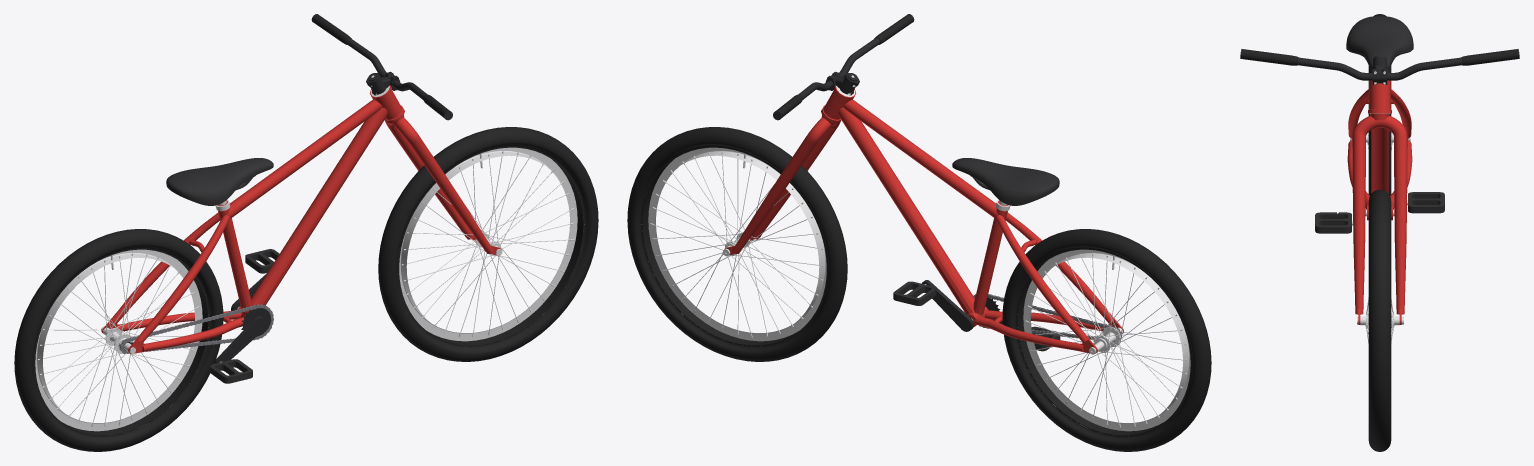
The picture shows the model from 3 angles, left to right: view 1: azimuth 30°, elevation 25°; view 2: azimuth 150°, elevation 25°; view 3: azimuth 270°, elevation 25°; orthographic projection. The views are drawn at different scales.
Visible parts, largest first — view 1: wheel_front, wheel_rear, frame, steer, crank; view 2: wheel_front, wheel_rear, frame, steer, crank; view 3: steer, wheel_front, frame, crank, wheel_rear.
Boxes of the visible parts, bbox=[...] form: wheel_front: bbox=[378, 127, 598, 361]; wheel_rear: bbox=[14, 229, 223, 451]; frame: bbox=[101, 85, 404, 353]; steer: bbox=[311, 14, 502, 255]; crank: bbox=[210, 249, 279, 383]; wheel_front: bbox=[627, 127, 847, 361]; wheel_rear: bbox=[1002, 229, 1211, 451]; frame: bbox=[821, 85, 1123, 354]; steer: bbox=[723, 14, 914, 256]; crank: bbox=[893, 280, 1060, 351]; steer: bbox=[1240, 49, 1519, 325]; wheel_front: bbox=[1365, 189, 1394, 451]; frame: bbox=[1346, 16, 1413, 220]; crank: bbox=[1315, 192, 1444, 233]; wheel_rear: bbox=[1367, 14, 1392, 195].
Bounding box in the file's own units: 1.98 × 1.04 × 0.7871.
